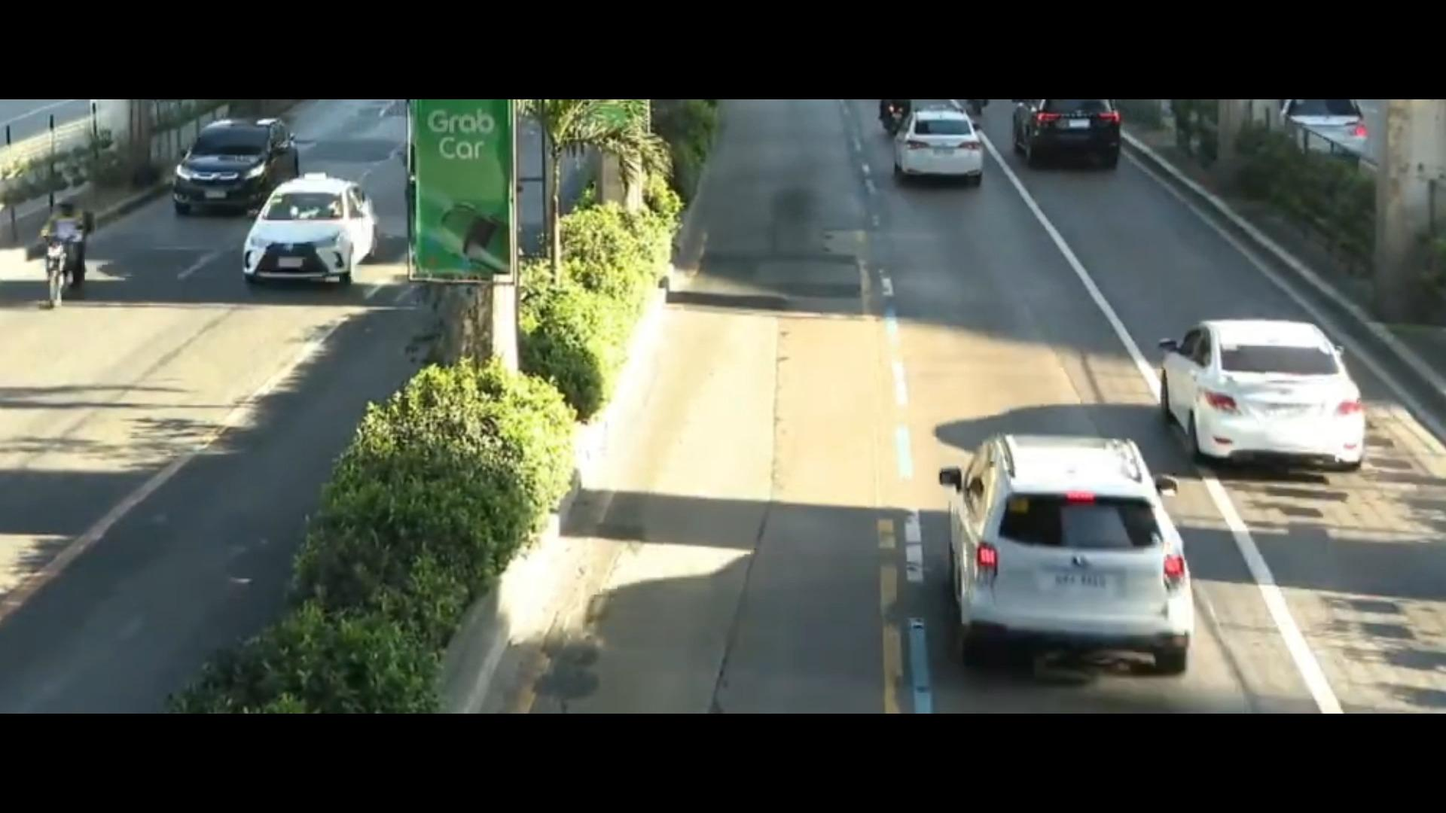Motorcycle: (36, 179, 140, 328)
SUV: (934, 437, 1204, 679), (162, 102, 302, 214), (1006, 93, 1137, 164)
Sedan: (1134, 292, 1397, 496), (215, 166, 396, 301), (883, 104, 997, 207)
